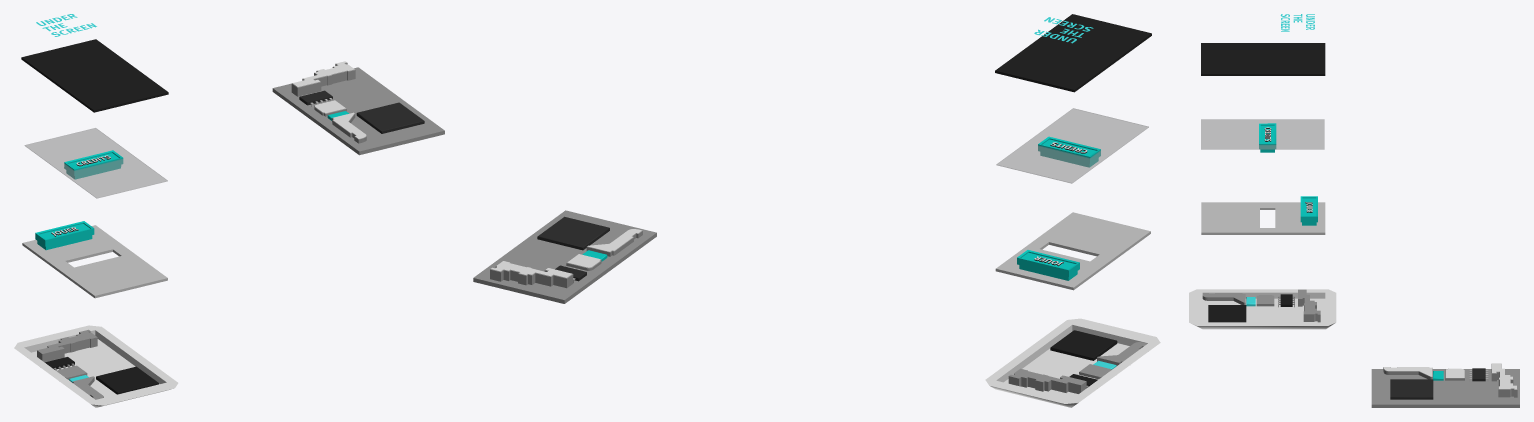
The model's file is UnderTheScreen_3.0.fbx.
3 views of the same model, side by side, from view 1: azimuth 30°, elevation 25°; view 2: azimuth 150°, elevation 25°; view 3: azimuth 270°, elevation 25° (orthographic). The views are drawn at different scales.
Visible parts, largest first — view 1: Box002, Layer004, ChamferBox001, Layer02, Box001, battery002, BoutonJouer, battery, BoutonCredits, Cache02, Cache006, Cap_2_010 (+1 smaller); view 2: Box002, ChamferBox001, Box001, Layer004, Layer02, battery002, battery, Cache02, BoutonJouer, BoutonCredits, Cache006; view 3: Box002, ChamferBox001, Layer004, Box001, Layer02, battery002, battery, Cache02, BoutonJouer, BoutonCredits, Cache00, Cap_1 (+1 smaller).
Boxes of the visible parts, x1,y1,x2,y2 form: Box002: (21,39,168,112); Layer004: (272,67,444,155); ChamferBox001: (14,325,178,407); Layer02: (22,225,167,298); Box001: (24,128,167,198); battery002: (356,102,424,133); BoutonJouer: (35,221,94,250); battery: (96,366,158,394); BoutonCredits: (64,150,123,179); Cache02: (37,329,97,362); Cache006: (291,63,355,96); Cap_2_010: (292,61,354,86); Box002: (995,14,1151,92); ChamferBox001: (985,318,1160,407); Box001: (996,108,1148,183); Layer004: (473,210,656,303); Layer02: (995,212,1150,290); battery002: (537,216,609,250); battery: (1050,330,1117,360); Cache02: (1008,368,1086,393); BoutonJouer: (1017,250,1079,280); BoutonCredits: (1038,136,1100,167); Cache006: (490,267,573,288); Box002: (1201,43,1325,75); ChamferBox001: (1189,289,1336,329); Layer004: (1371,369,1519,407); Box001: (1201,119,1324,149); Layer02: (1201,202,1325,234); battery002: (1390,379,1433,399); battery: (1208,305,1246,322); Cache02: (1298,289,1320,322); BoutonJouer: (1300,196,1317,225); BoutonCredits: (1259,123,1276,152); Cache00: (1202,293,1245,304); Cap_1: (1280,14,1314,31).
Bounding box in the file's own units: 1917 × 1349 × 1406.
